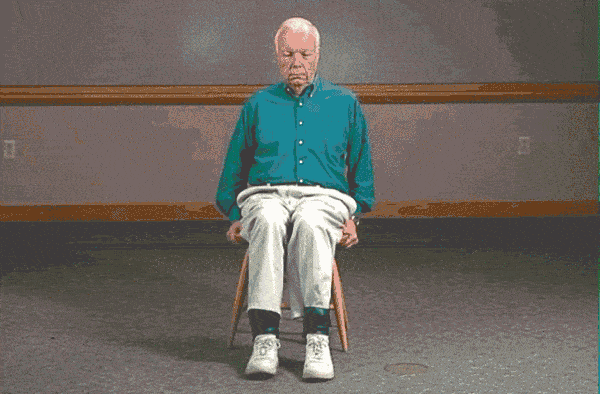sitting: (214, 11, 371, 380)
